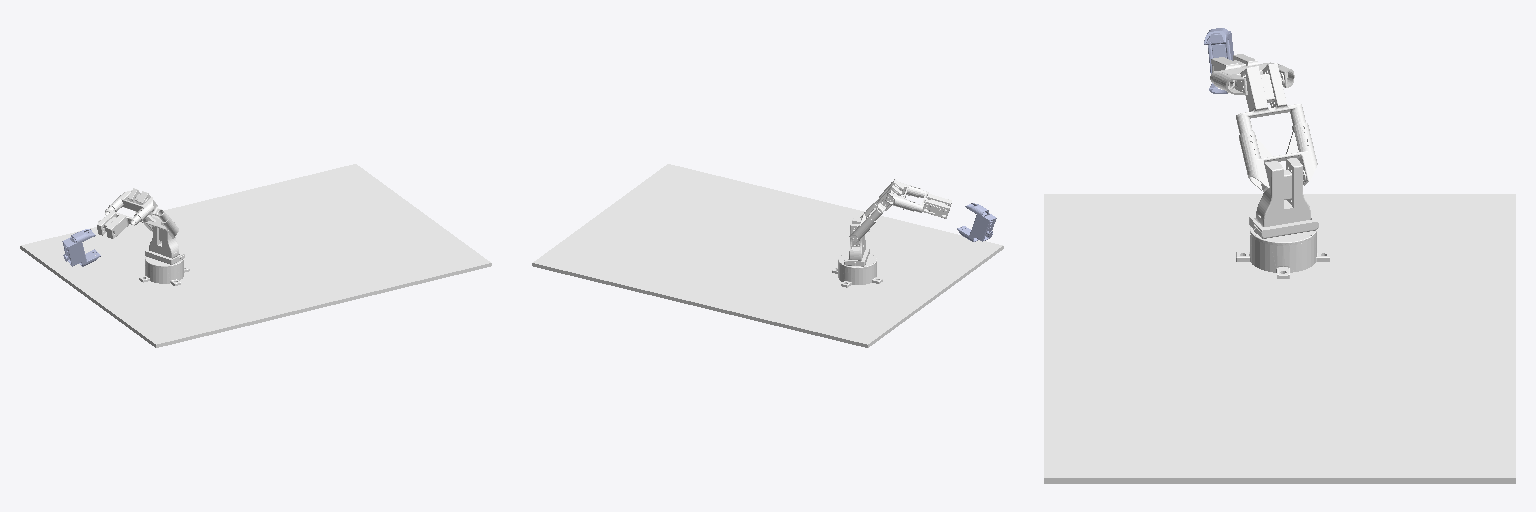
The robot description file, URDF, robot "Assem1":
<?xml version="1.0" encoding="utf-8"?>
<!-- This URDF was automatically created by SolidWorks to URDF Exporter! Originally created by Stephen Brawner (brawner@gmail.com) 
     Commit Version: 1.6.0-4-g7f85cfe  Build Version: 1.6.7995.38578
     For more information, please see http://wiki.ros.org/sw_urdf_exporter -->
<robot
  name="Assem1">
  <link
    name="base_link">
    <inertial>
      <origin
        xyz="0 1.17961196366423E-16 -0.005"
        rpy="0 0 0" />
      <mass
        value="1.119929293" />
      <inertia
        ixx="0.0457397788749417"
        ixy="1.61839482534769E-19"
        ixz="-1.34623389491054E-19"
        iyy="0.0933367738274418"
        iyz="-3.05515943709814E-17"
        izz="0.139057887214167" />
    </inertial>
    <visual>
      <origin
        xyz="0 0 0"
        rpy="0 0 0" />
      <geometry>
        <mesh
          filename="package://Assem1/meshes/base_link.STL" />
      </geometry>
      <material
        name="">
        <color
          rgba="1 1 1 1" />
      </material>
    </visual>
    <collision>
      <origin
        xyz="0 0 0"
        rpy="0 0 0" />
      <geometry>
        <mesh
          filename="package://Assem1/meshes/base_link.STL" />
      </geometry>
    </collision>
  </link>
  <link
    name="rotation base Link">
    <inertial>
      <origin
        xyz="0.000454152537713748 -6.72401960152835E-08 -0.028776923437594"
        rpy="0 0 0" />
      <mass
        value="0.419501289690015" />
      <inertia
        ixx="0.000354846386614952"
        ixy="2.32050175601008E-10"
        ixz="-1.5024086956712E-06"
        iyy="0.000342622718911629"
        iyz="8.91247938606488E-11"
        izz="0.000609766761493375" />
    </inertial>
    <visual>
      <origin
        xyz="0 0 0"
        rpy="0 0 0" />
      <geometry>
        <mesh
          filename="package://Assem1/meshes/rotation base Link.STL" />
      </geometry>
      <material
        name="">
        <color
          rgba="1 1 1 1" />
      </material>
    </visual>
    <collision>
      <origin
        xyz="0 0 0"
        rpy="0 0 0" />
      <geometry>
        <mesh
          filename="package://Assem1/meshes/rotation base Link.STL" />
      </geometry>
    </collision>
  </link>
  <joint
    name="rotation"
    type="revolute">
    <origin
      xyz="-0.27 0.005 0.050025"
      rpy="0 0 0" />
    <parent
      link="base_link" />
    <child
      link="rotation base Link" />
    <axis
      xyz="0 0 1" />
    <limit
      lower="0"
      upper="0"
      effort="0"
      velocity="0" />
    <dynamics
      damping="0.01"
      friction="0.1" />
  </joint>
  <link
    name="s Link">
    <inertial>
      <origin
        xyz="0.012028606141393 -0.0301289734234791 -0.0472467702737331"
        rpy="0 0 0" />
      <mass
        value="0.249151926355025" />
      <inertia
        ixx="0.000250989324405836"
        ixy="3.2594394789444E-05"
        ixz="-4.55970167239391E-06"
        iyy="0.000179678169139989"
        iyz="1.29725037514146E-05"
        izz="0.00014432093410914" />
    </inertial>
    <visual>
      <origin
        xyz="0 0 0"
        rpy="0 0 0" />
      <geometry>
        <mesh
          filename="package://Assem1/meshes/s Link.STL" />
      </geometry>
      <material
        name="">
        <color
          rgba="1 1 1 1" />
      </material>
    </visual>
    <collision>
      <origin
        xyz="0 0 0"
        rpy="0 0 0" />
      <geometry>
        <mesh
          filename="package://Assem1/meshes/s Link.STL" />
      </geometry>
    </collision>
  </link>
  <joint
    name="shoulder"
    type="revolute">
    <origin
      xyz="-0.011397 0.029336 0.080875"
      rpy="0 0 0" />
    <parent
      link="rotation base Link" />
    <child
      link="s Link" />
    <axis
      xyz="-0.36213 0.93213 0" />
    <limit
      lower="0"
      upper="0"
      effort="0"
      velocity="0" />
    <dynamics
      damping="0.01"
      friction="0.1" />
  </joint>
  <link
    name="e Link">
    <inertial>
      <origin
        xyz="0.0482932369137896 -0.0160724952944176 -0.0497524528610963"
        rpy="0 0 0" />
      <mass
        value="0.169188267255126" />
      <inertia
        ixx="0.000249159004737321"
        ixy="2.48274373568051E-05"
        ixz="6.33068583898734E-05"
        iyy="0.000177620831218379"
        iyz="3.25335797778853E-05"
        izz="0.00022256603674734" />
    </inertial>
    <visual>
      <origin
        xyz="0 0 0"
        rpy="0 0 0" />
      <geometry>
        <mesh
          filename="package://Assem1/meshes/e Link.STL" />
      </geometry>
      <material
        name="">
        <color
          rgba="1 1 1 1" />
      </material>
    </visual>
    <collision>
      <origin
        xyz="0 0 0"
        rpy="0 0 0" />
      <geometry>
        <mesh
          filename="package://Assem1/meshes/e Link.STL" />
      </geometry>
    </collision>
  </link>
  <joint
    name="elbowe"
    type="revolute">
    <origin
      xyz="-0.087261 -0.031863 0.11778"
      rpy="0 0 0" />
    <parent
      link="s Link" />
    <child
      link="e Link" />
    <axis
      xyz="-0.36213 0.93213 0" />
    <limit
      lower="0"
      upper="0"
      effort="0"
      velocity="0" />
    <dynamics
      damping="0.01"
      friction="0.1" />
  </joint>
  <link
    name="r Link">
    <inertial>
      <origin
        xyz="0.0551658736729042 -0.0152617065291703 0.0114991001173112"
        rpy="0 0 0" />
      <mass
        value="0.173739506723998" />
      <inertia
        ixx="0.000152675088082175"
        ixy="5.60082392838372E-06"
        ixz="-2.1191962288473E-05"
        iyy="0.00012027690077077"
        iyz="-1.01302759456603E-05"
        izz="0.000236119083017412" />
    </inertial>
    <visual>
      <origin
        xyz="0 0 0"
        rpy="0 0 0" />
      <geometry>
        <mesh
          filename="package://Assem1/meshes/r Link.STL" />
      </geometry>
      <material
        name="">
        <color
          rgba="1 1 1 1" />
      </material>
    </visual>
    <collision>
      <origin
        xyz="0 0 0"
        rpy="0 0 0" />
      <geometry>
        <mesh
          filename="package://Assem1/meshes/r Link.STL" />
      </geometry>
    </collision>
  </link>
  <joint
    name="rest"
    type="revolute">
    <origin
      xyz="-0.1189 -0.041688 -0.032264"
      rpy="0 0 0" />
    <parent
      link="e Link" />
    <child
      link="r Link" />
    <axis
      xyz="-0.36213 0.93213 0" />
    <limit
      lower="0"
      upper="0"
      effort="0"
      velocity="0" />
    <dynamics
      damping="0.01"
      friction="0.1" />
  </joint>
  <link
    name=" yaw Link">
    <inertial>
      <origin
        xyz="0.0110027197579639 0.00427050430050546 0.0400984756384969"
        rpy="0 0 0" />
      <mass
        value="0.0986783100079435" />
      <inertia
        ixx="5.88285318071792E-05"
        ixy="-6.57085728432645E-06"
        ixz="-7.21024663628286E-06"
        iyy="7.32001813073196E-05"
        iyz="-2.8018744778366E-06"
        izz="9.76176217007906E-05" />
    </inertial>
    <visual>
      <origin
        xyz="0 0 0"
        rpy="0 0 0" />
      <geometry>
        <mesh
          filename="package://Assem1/meshes/ yaw Link.STL" />
      </geometry>
      <material
        name="">
        <color
          rgba="1 1 1 1" />
      </material>
    </visual>
    <collision>
      <origin
        xyz="0 0 0"
        rpy="0 0 0" />
      <geometry>
        <mesh
          filename="package://Assem1/meshes/ yaw Link.STL" />
      </geometry>
    </collision>
  </link>
  <joint
    name="yaw"
    type="revolute">
    <origin
      xyz="-0.046014 -0.049122 -0.054627"
      rpy="0 0 0" />
    <parent
      link="r Link" />
    <child
      link=" yaw Link" />
    <axis
      xyz="0.27703 0.10763 -0.95482" />
    <limit
      lower="0"
      upper="0"
      effort="0"
      velocity="0" />
    <dynamics
      damping="0.01"
      friction="0.1" />
  </joint>
  <link
    name="roll Link">
    <inertial>
      <origin
        xyz="0.0319740680201726 -0.00425177383868128 0.0156238981562567"
        rpy="0 0 0" />
      <mass
        value="0.118541040397138" />
      <inertia
        ixx="7.9523681634328E-05"
        ixy="-1.90134536854391E-07"
        ixz="1.24151839801884E-05"
        iyy="0.000100045838337494"
        iyz="6.11264368777227E-06"
        izz="4.83207107015094E-05" />
    </inertial>
    <visual>
      <origin
        xyz="0 0 0"
        rpy="0 0 0" />
      <geometry>
        <mesh
          filename="package://Assem1/meshes/roll Link.STL" />
      </geometry>
      <material
        name="">
        <color
          rgba="0.792156862745098 0.819607843137255 0.933333333333333 1" />
      </material>
    </visual>
    <collision>
      <origin
        xyz="0 0 0"
        rpy="0 0 0" />
      <geometry>
        <mesh
          filename="package://Assem1/meshes/roll Link.STL" />
      </geometry>
    </collision>
  </link>
  <joint
    name="roll"
    type="revolute">
    <origin
      xyz="-0.082305 0.00503 0.004415"
      rpy="0 0 0" />
    <parent
      link=" yaw Link" />
    <child
      link="roll Link" />
    <axis
      xyz="-0.95849 0.10074 -0.26674" />
    <limit
      lower="0"
      upper="0"
      effort="0"
      velocity="0" />
    <dynamics
      damping="0.01"
      friction="0.1" />
  </joint>
</robot>

--- Facts derived from the render (not from the file) ---
3 views of the same robot in one strip: view 1: azimuth 30°, elevation 25°; view 2: azimuth 150°, elevation 25°; view 3: azimuth 270°, elevation 25° (orthographic).
Robot: Assem1 — 7 links, 6 joints (6 revolute); root link base_link; default pose: all joints at 0.
Visible links, largest first — view 1: base_link, r Link, rotation base Link, s Link, roll Link, e Link; view 2: base_link, r Link, rotation base Link, e Link, roll Link, s Link; view 3: base_link, e Link, s Link, rotation base Link, r Link, roll Link.
Link boxes in pixels (x1,y1,x2,y2): base_link: (20,164,491,347); r Link: (97,190,153,238); rotation base Link: (139,257,189,285); s Link: (145,217,184,264); roll Link: (62,229,100,266); e Link: (128,188,178,238); base_link: (532,164,1003,347); r Link: (885,182,951,218); rotation base Link: (832,253,882,287); e Link: (849,179,903,242); roll Link: (957,203,996,241); s Link: (844,218,869,266); base_link: (1044,194,1515,483); e Link: (1236,63,1317,191); s Link: (1249,158,1318,238); rotation base Link: (1236,226,1329,278); r Link: (1210,54,1294,94); roll Link: (1204,28,1233,93).
Bounding box of the posed robot: 1.12 × 0.7 × 0.2858 m (x, y, z).
6 mesh visuals loaded from 7 distinct referenced files (6 binary STL); not drawn: 1 (reference not matched to a file when rendering).
